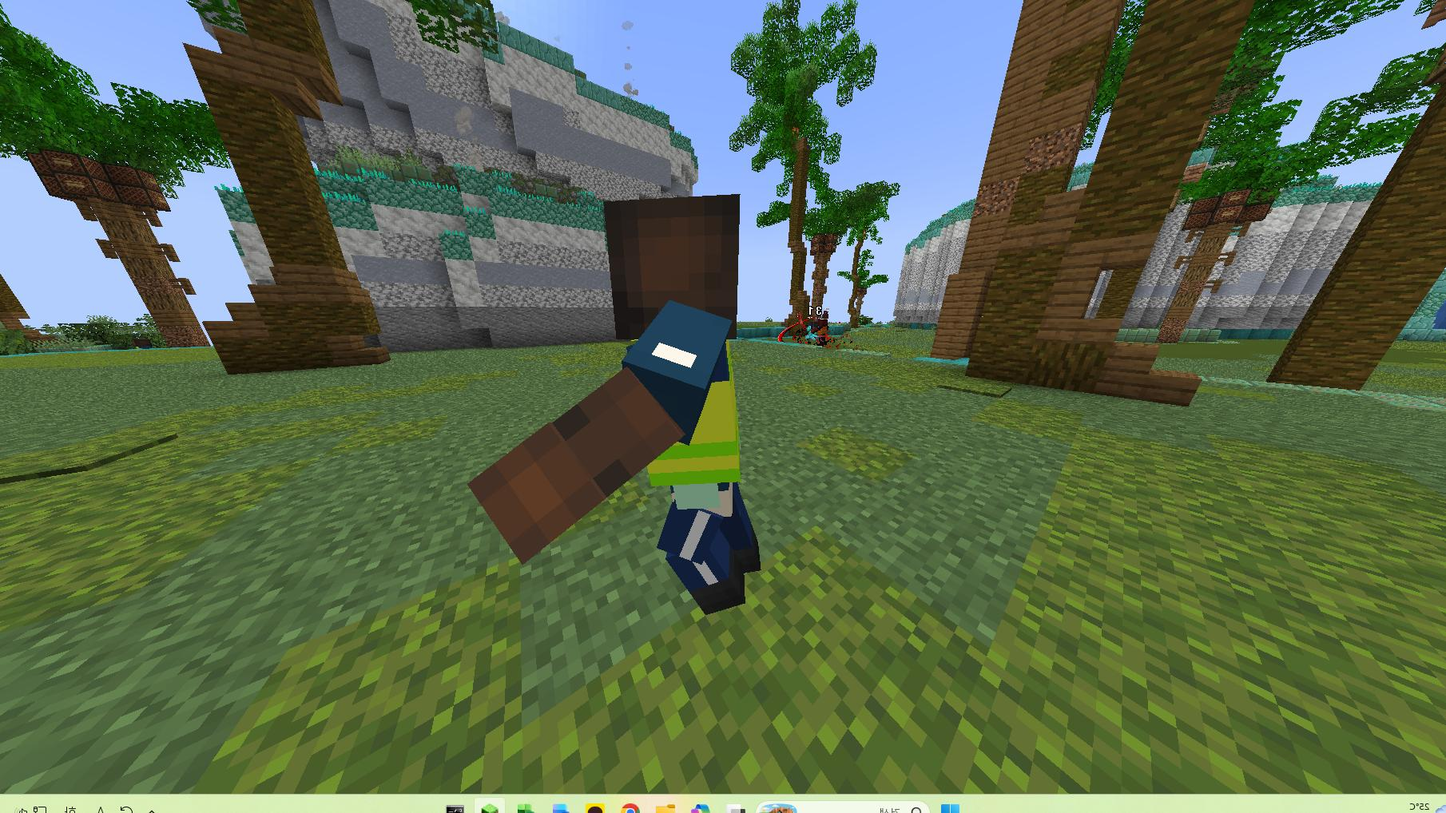Guardian: (471, 196, 761, 613)
